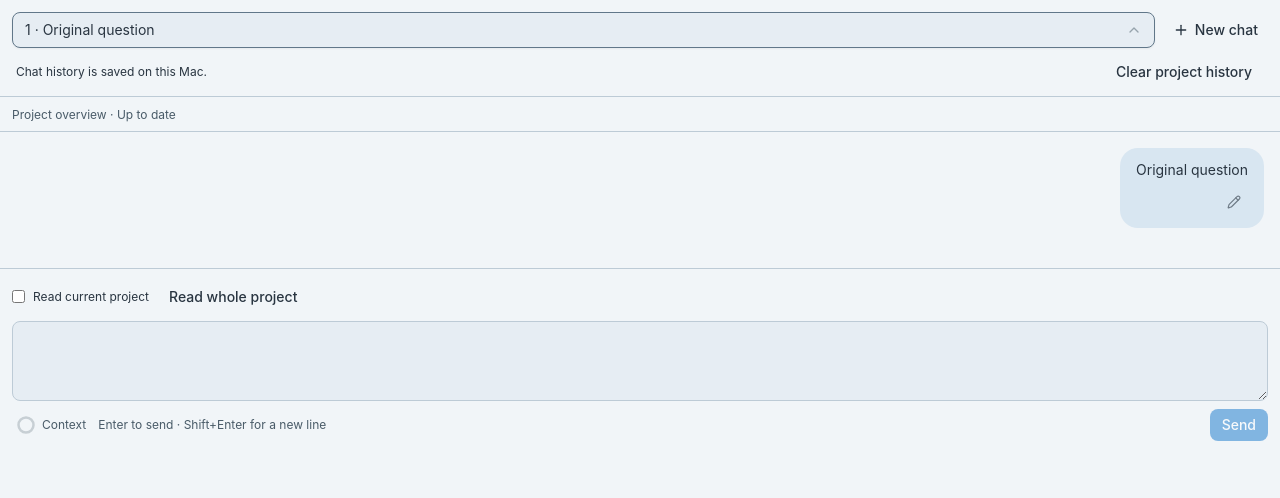
Test: creation discussion reading (#166) › switches chats and offers a historical question as an editable new-chat draft
Click the button named "Edit and resend".
click(1234, 202)  # box [1220,188,1248,216]
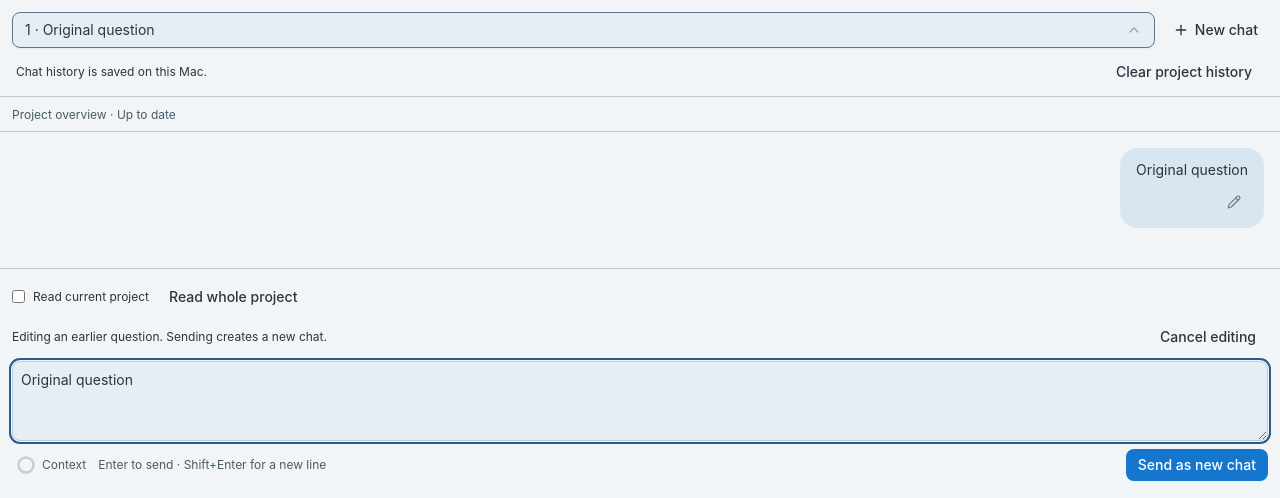
expect the text box named "Ask the assistant" holds "Original question": met, box [12,361,1268,441]
expect the button "Send as new chat" is shown: met, box [1126,449,1268,481]
Click the button "Cancel editing".
click(1208, 337)  # box [1148,321,1268,353]
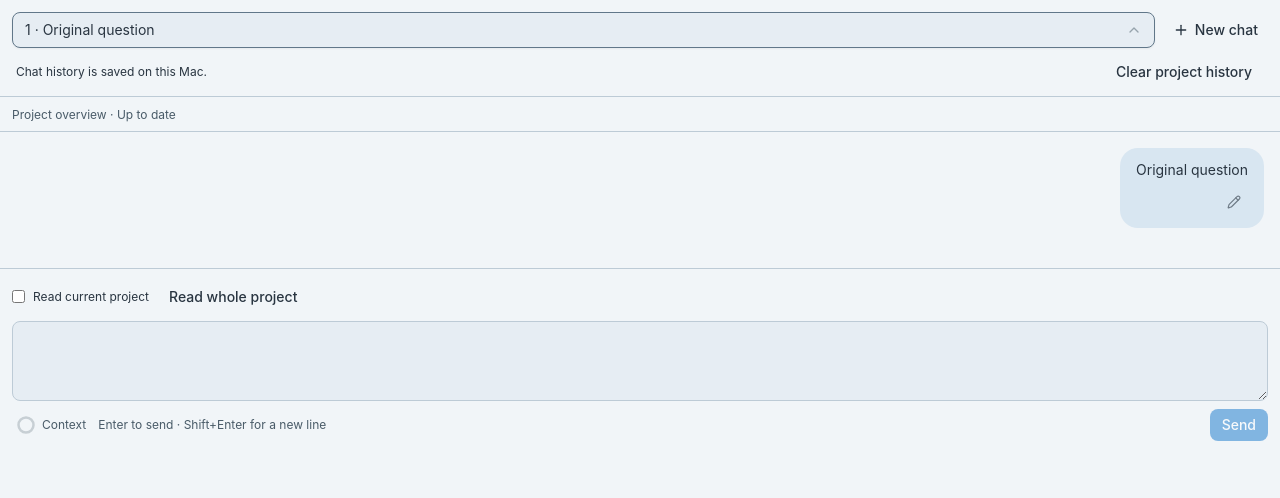
expect the text box named "Ask the assistant" is empty: met, box [12,321,1268,401]
Click the button "New chat".
click(1215, 30)  # box [1163,14,1268,46]
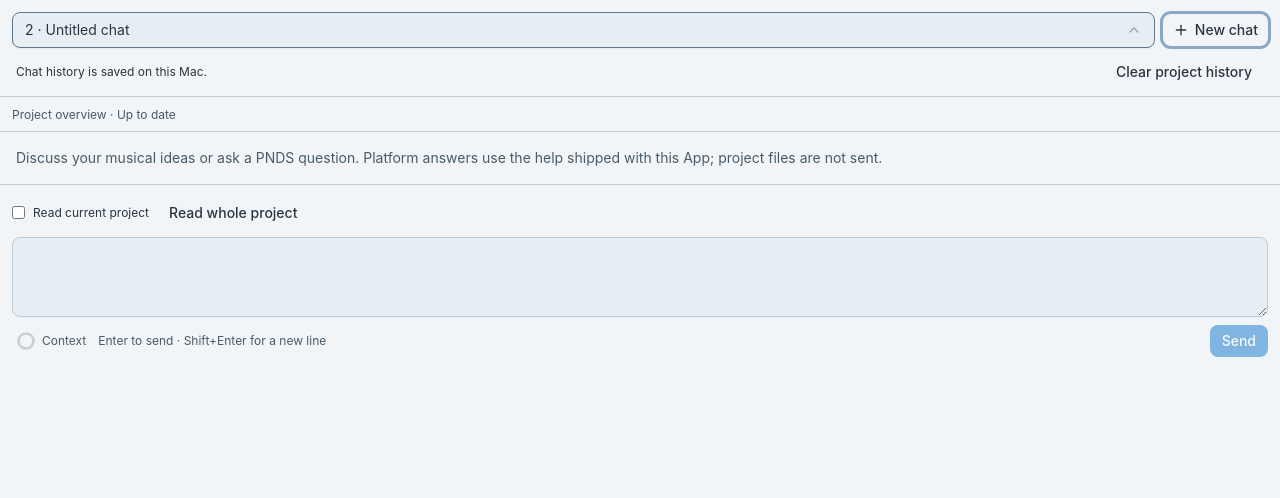
expect the text "Original question" is gone: met
Click the dropdown named "Chats".
click(87, 30)  # box [12,12,1155,48]
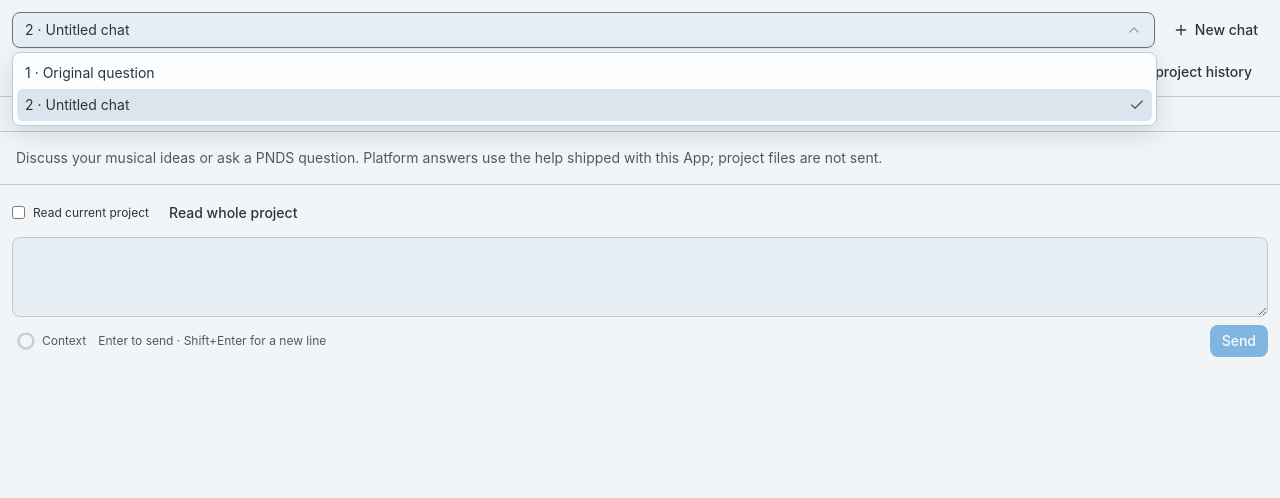
Click the option "1 · Original question".
click(90, 72)  # box [25,64,155,81]
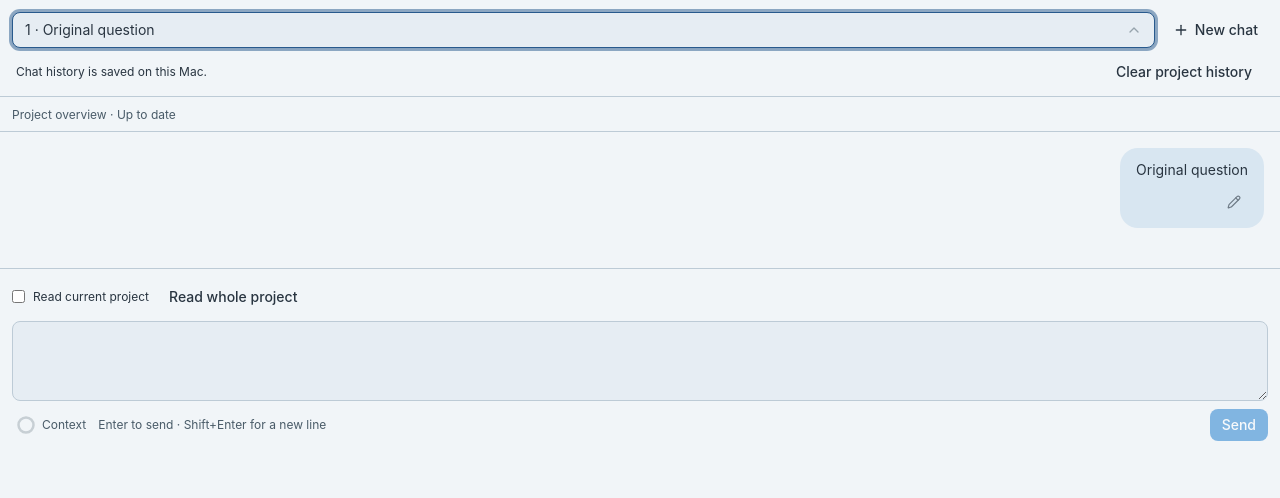
expect the text "Original question" is shown: met, box [1136,160,1248,180]
